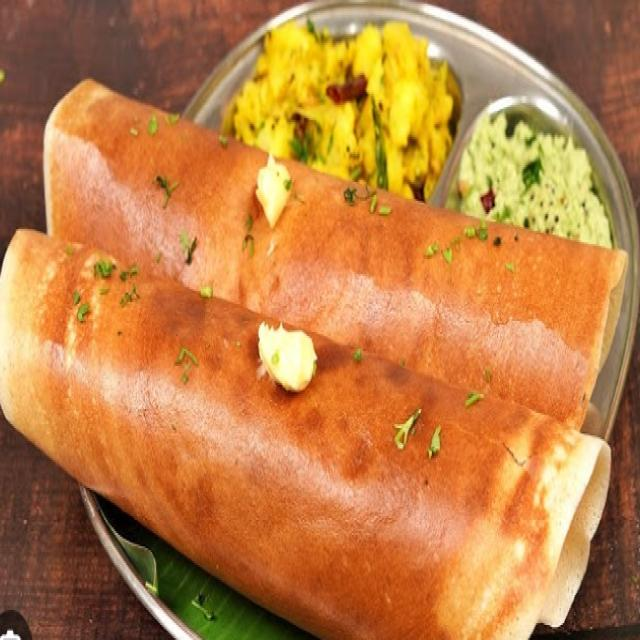dosa: (0, 72, 622, 638)
